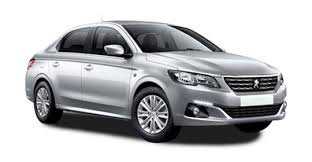car: (26, 24, 286, 143)
